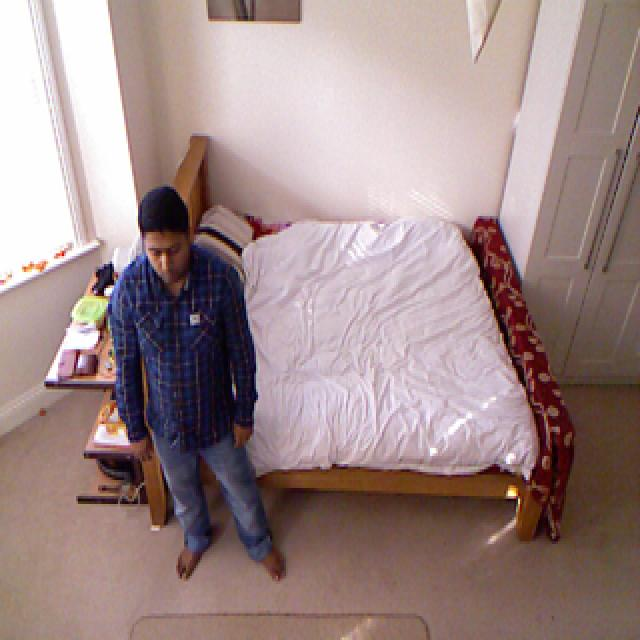standing: (116, 185, 287, 585)
